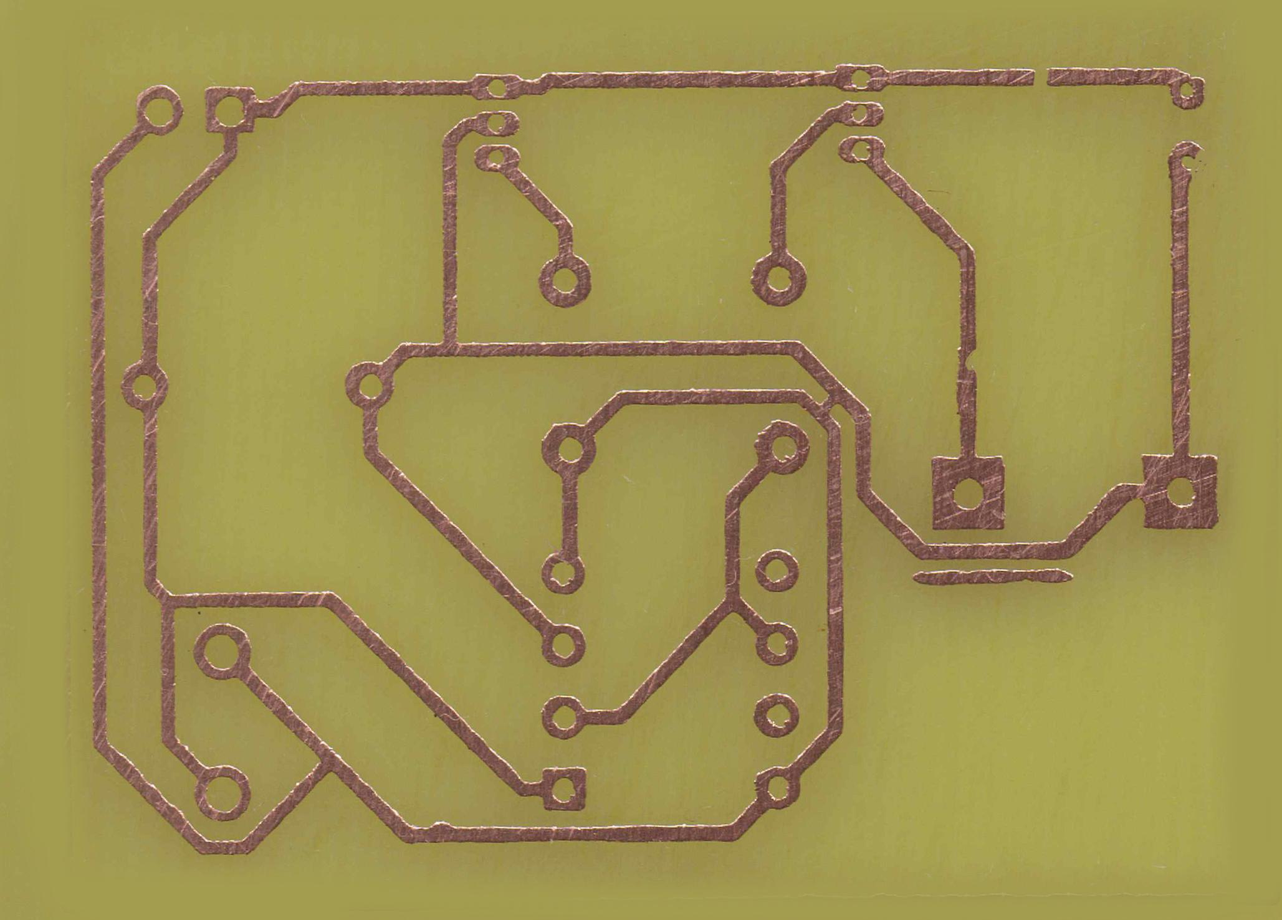missing_hole: (1165, 140, 1204, 176)
mouse_bite: (951, 341, 983, 377)
open_circuit: (1025, 64, 1056, 92)
short: (811, 382, 845, 417)
spur: (426, 818, 459, 847)
spurious_copper: (909, 564, 1078, 592)
